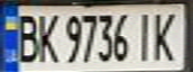3: (96, 10, 115, 63)
6: (112, 10, 133, 63)
7: (78, 11, 96, 63)
9: (60, 11, 84, 64)
B: (9, 10, 42, 64)
I: (133, 9, 157, 62)
K: (148, 8, 184, 62), (33, 10, 60, 64)
